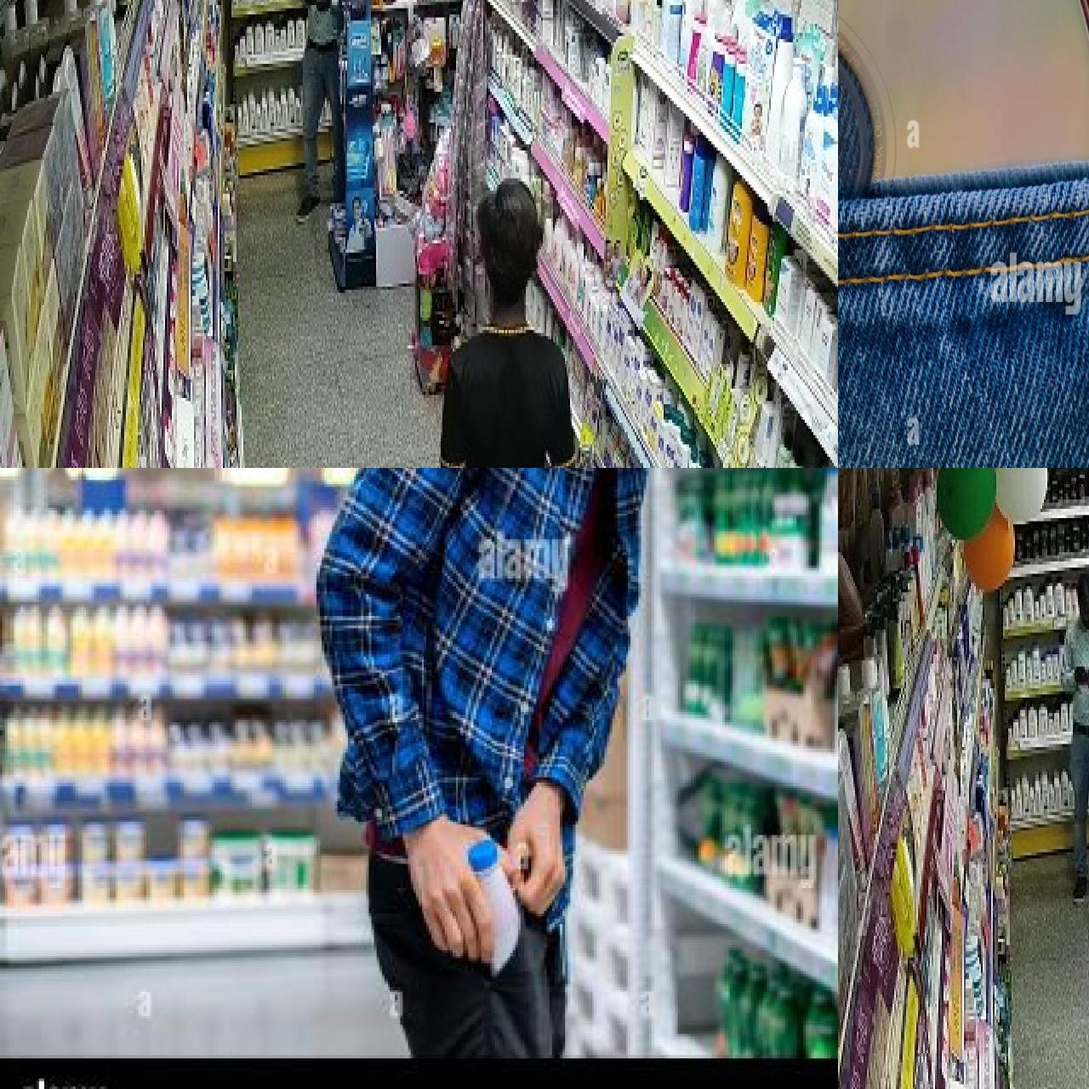shoplifting: (238, 661, 691, 1086)
